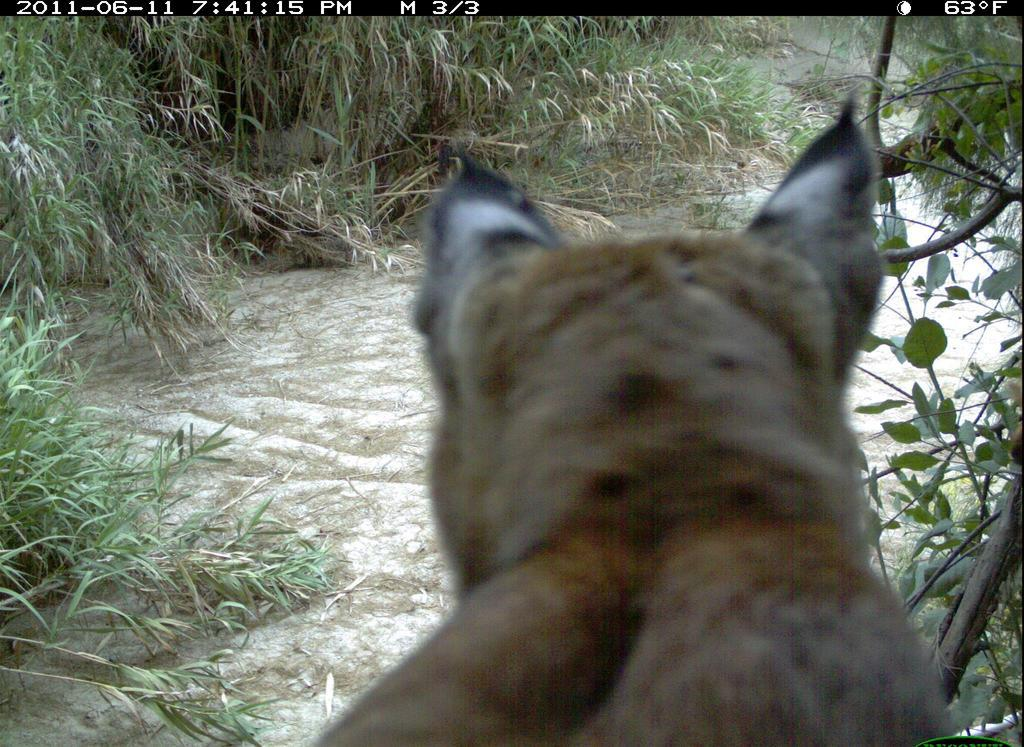bobcat: (257, 113, 998, 747)
